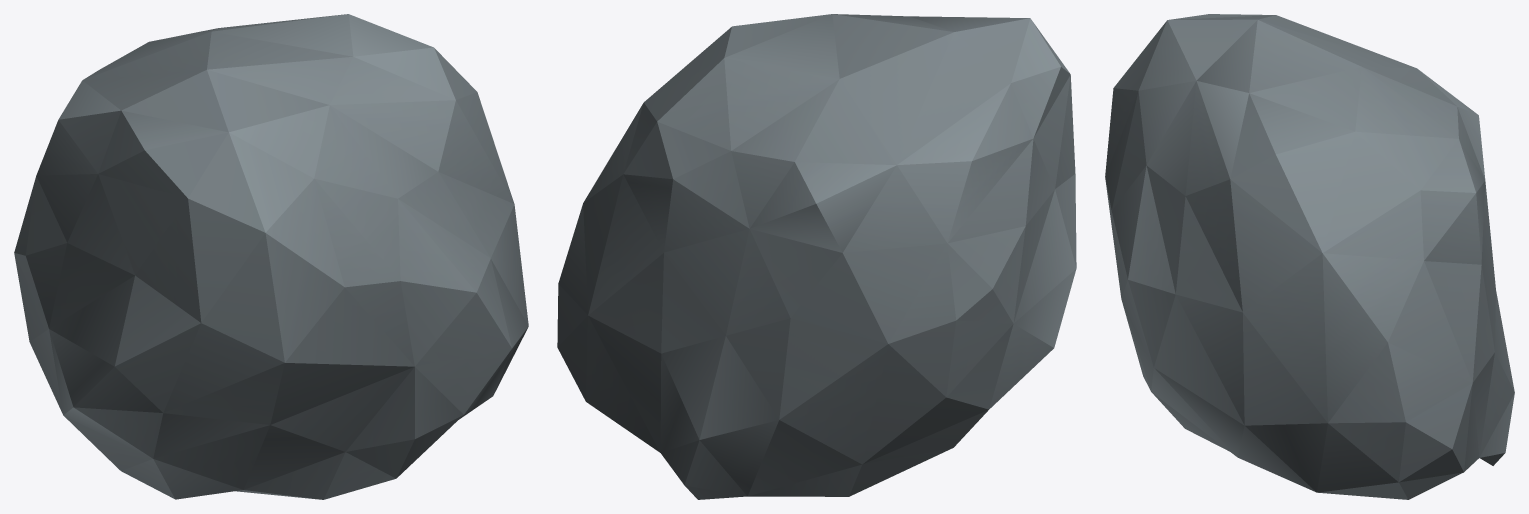
Rendered from kf_rock_3_j.fbx.
The picture shows the model from 3 angles, left to right: view 1: azimuth 30°, elevation 25°; view 2: azimuth 150°, elevation 25°; view 3: azimuth 270°, elevation 25°; orthographic projection. The views are drawn at different scales.
Parts seen in each view (by area): view 1: kf_rock_3_j; view 2: kf_rock_3_j; view 3: kf_rock_3_j.
Part boxes in pixels (x1,y1,x2,y2): kf_rock_3_j: (14,14,528,499); kf_rock_3_j: (557,14,1076,499); kf_rock_3_j: (1105,14,1514,499).
Size of the model in its own units: 4.73 by 4.55 by 4.17.
